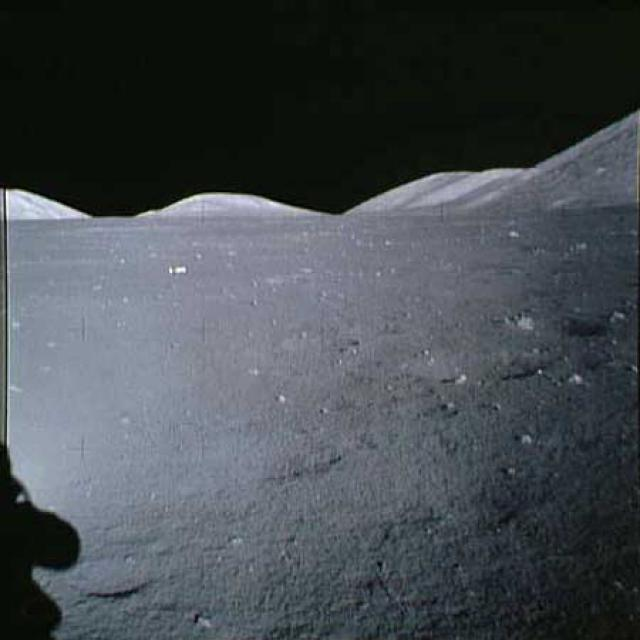crater: (405, 347, 553, 388), (496, 306, 598, 338)
